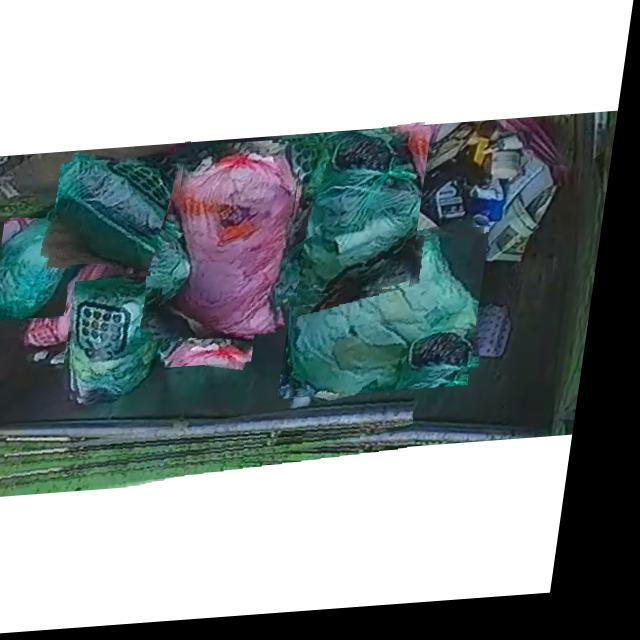general_trashbag: (299, 240, 489, 399), (277, 140, 428, 301), (63, 161, 185, 272), (80, 281, 169, 402), (4, 220, 83, 316), (168, 302, 265, 362)
other_trashbag: (0, 434, 421, 499), (183, 148, 302, 339)
